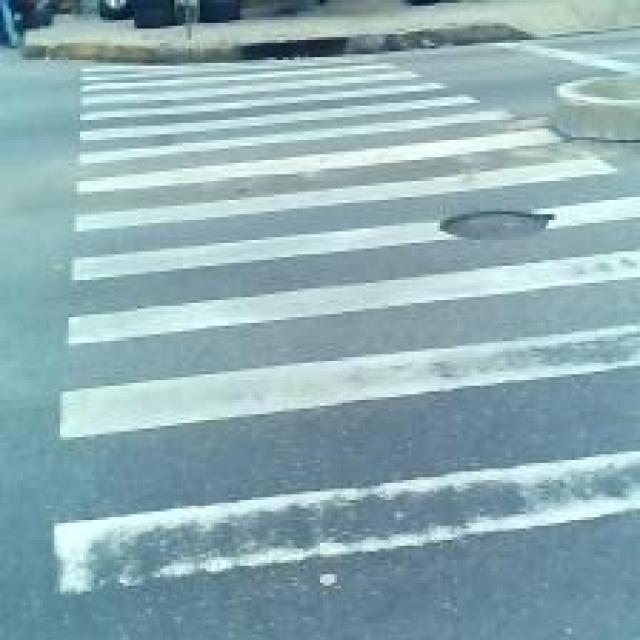walk-crossing: (77, 63, 640, 549)
